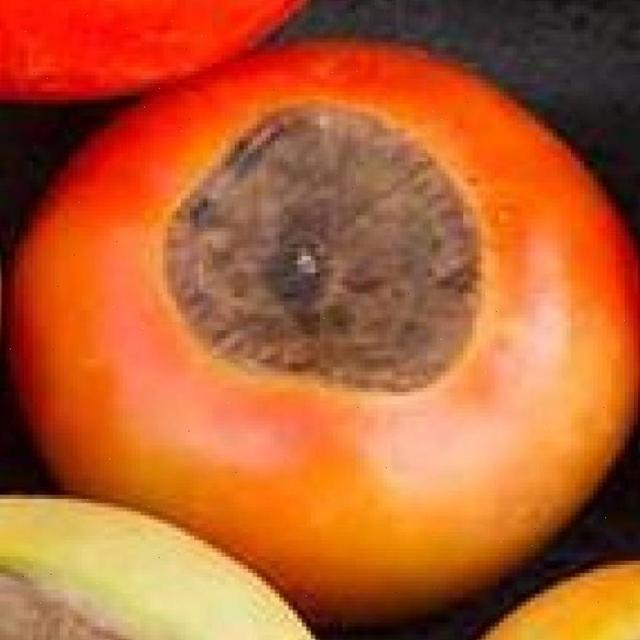Blossom End Rot Fruit: (48, 56, 215, 399)
